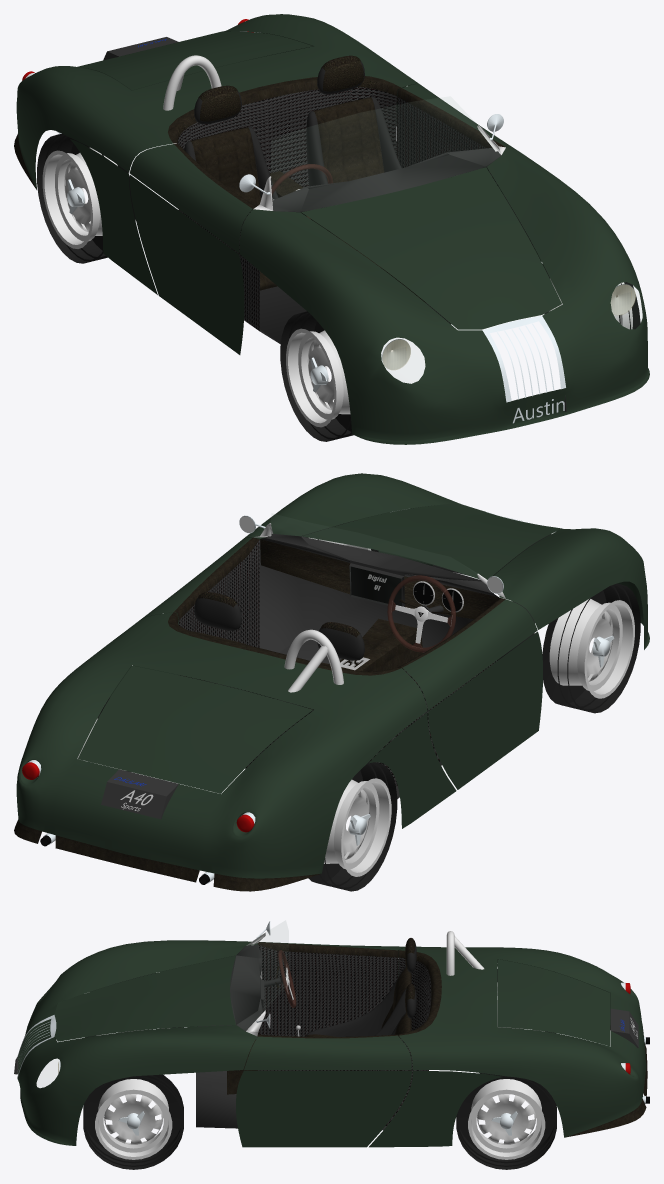
The model's file is Austin-A40-Sports.glb.
3 renders of one model, top to bottom at view 1: azimuth 30°, elevation 25°; view 2: azimuth 150°, elevation 25°; view 3: azimuth 270°, elevation 25°, orthographic. The views are drawn at different scales.
Visible parts, largest first — view 1: door, sw, Recaro, UnitRim (×2), klappe, board, UnitPneuQ (×2), grill, int, Dunlop (×2), light, rollbar (+1 smaller); view 2: door, klappe, sw, UnitRim (×2), board, int, UnitPneuQ (×2), Recaro, plate r, Konsole, Dunlop (×2), rollbar (+3 smaller); view 3: door, sw, klappe, UnitPneuQ (×2), UnitRim (×2), Dunlop (×2), Recaro, board, int, plate r, rollbar, grill (+1 smaller).
Part boxes in pixels (x1,y1,x2,y2): door: (14,14,649,444); sw: (70,86,544,354); Recaro: (184,55,401,290); UnitRim (×2): (42,147,632,427); klappe: (78,31,312,90); board: (272,148,501,212); UnitPneuQ (×2): (37,133,640,441); grill: (482,316,566,411); int: (244,194,534,343); Dunlop (×2): (64,161,334,410); light: (382,284,635,369); rollbar: (163,55,221,110); door: (14,473,649,891); klappe: (78,665,312,793); sw: (110,612,542,828); UnitRim (×2): (77,537,634,876); board: (260,534,498,619); int: (245,506,550,798); UnitPneuQ (×2): (97,520,640,891); Recaro: (192,592,396,735); plate r: (101,769,178,819); Konsole: (254,618,422,759); Dunlop (×2): (87,611,613,859); rollbar: (284,629,343,692); door: (17,940,647,1145); sw: (160,959,502,1147); klappe: (497,959,610,1046); UnitPneuQ (×2): (83,969,556,1169); UnitRim (×2): (95,982,545,1159); Dunlop (×2): (104,1000,536,1144); Recaro: (305,938,416,1070); board: (230,944,264,1036); int: (196,944,398,1130); plate r: (610,1008,638,1047); rollbar: (446,931,484,975); grill: (14,1015,56,1078).
Size of the model in its own units: 1.7 by 1.16 by 4.09.
27 materials, 2 textured.
